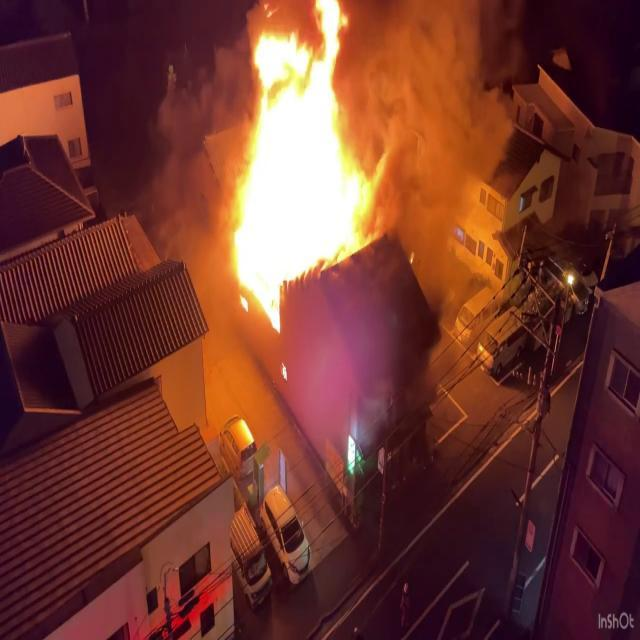Fire: (220, 2, 378, 316)
Smoke: (367, 1, 512, 253)
